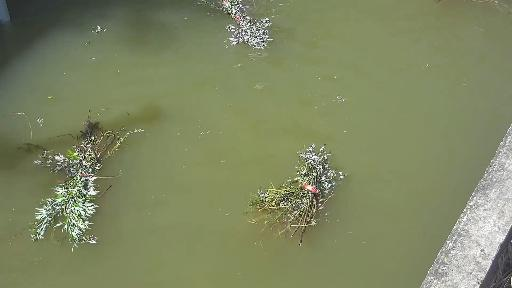twig: (5, 106, 154, 249), (229, 134, 384, 246), (170, 0, 299, 55)
